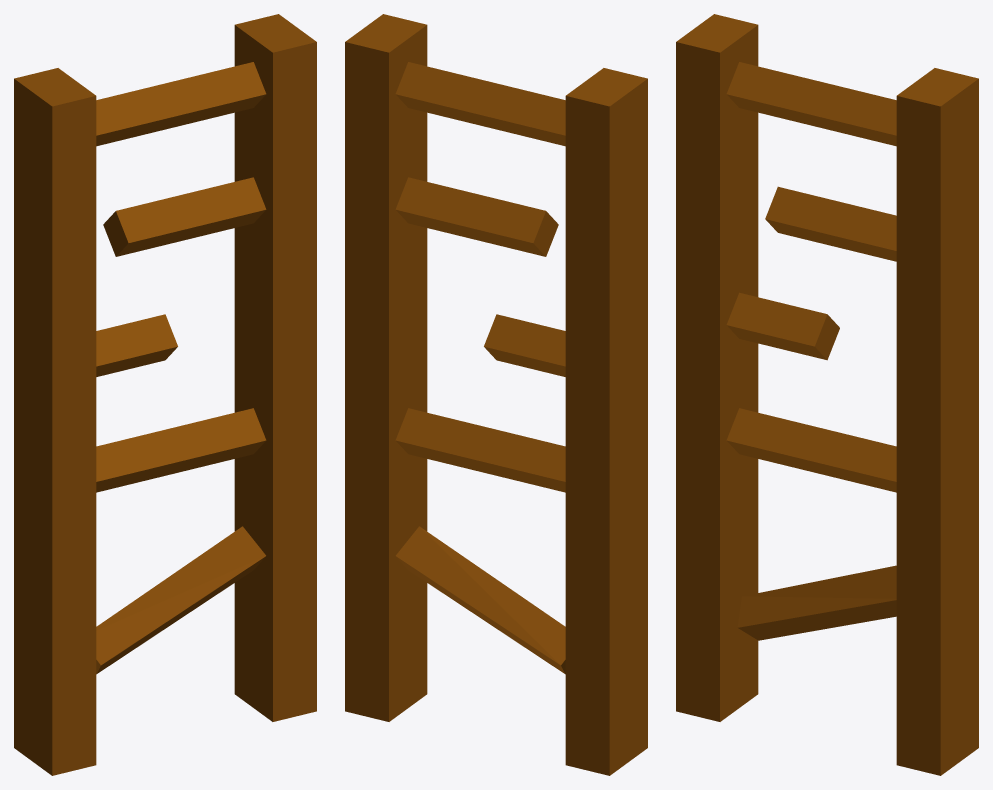
Rendered from model_loc_1752_8.obj.
The picture shows the model from 3 angles, left to right: view 1: azimuth 30°, elevation 25°; view 2: azimuth 150°, elevation 25°; view 3: azimuth 330°, elevation 25°; orthographic projection.
Parts seen in each view (by area): view 1: 1183; view 2: 1183; view 3: 1183.
Part boxes in pixels (<box>): 1183: <box>14,14,316,775</box>; 1183: <box>345,14,647,775</box>; 1183: <box>676,14,978,775</box>.
Bounding box in the file's own units: 96 × 232 × 24.
